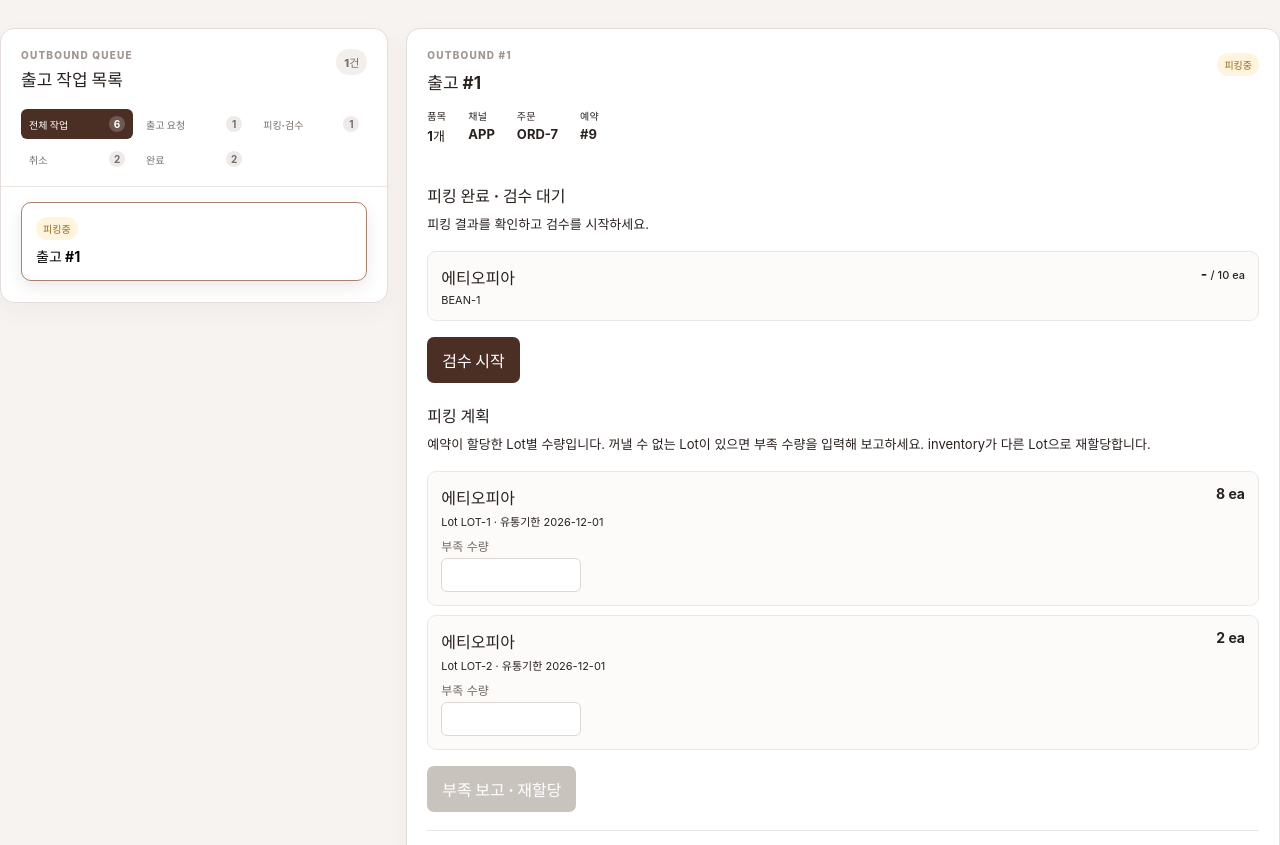
OutboundManagementPage › 할당 수량을 넘는 부족 수량은 보고할 수 없다
This screenshot has width=1280, height=845.
(page scrolled)
In the number field labelled "부족 수량" below "LOT-2": (511, 719) [441,702,581,736], type "5"
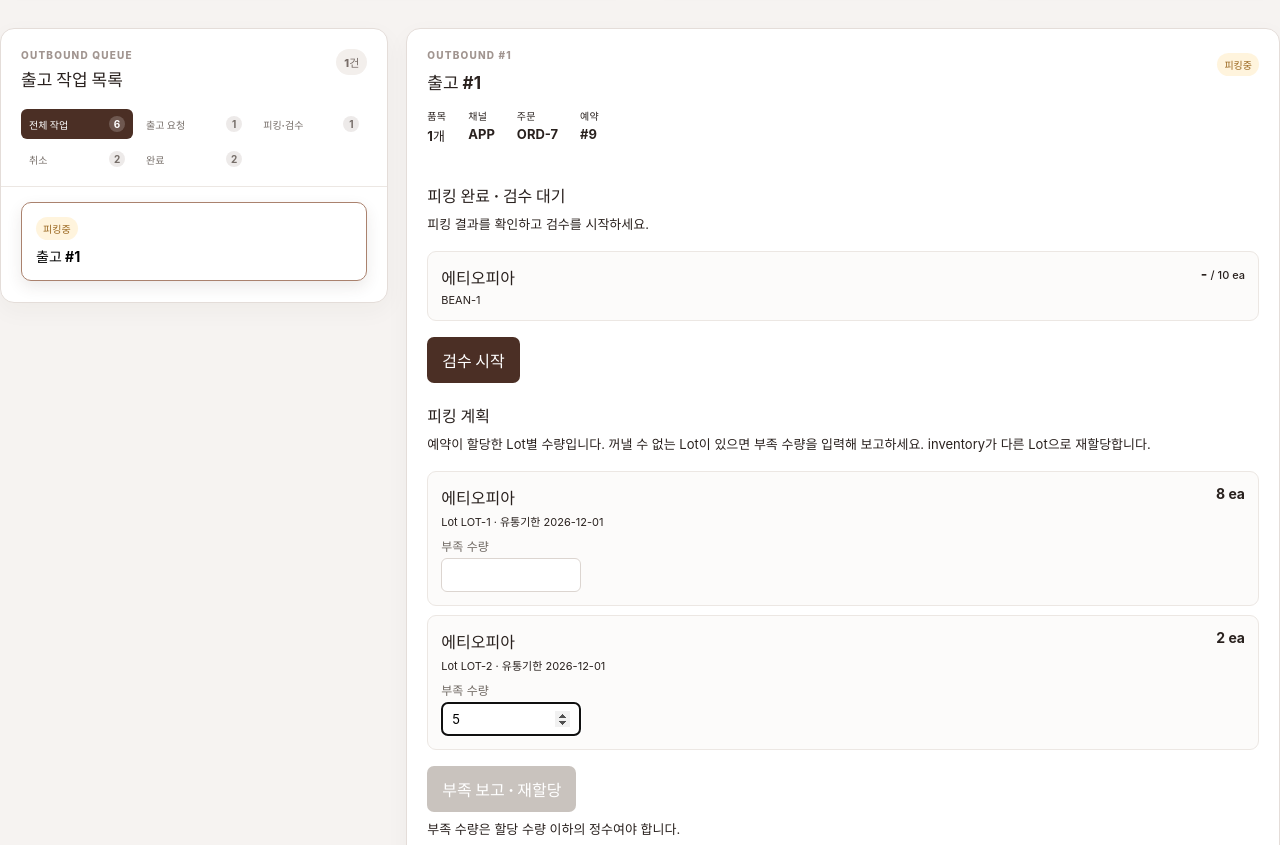
Check: the button "부족 보고 · 재할당" is disabled, box [427,766,576,812]
Check: the text "부족 수량은 할당 수량 이하의 정수여야 합니다." is shown, box [427,821,680,837]
